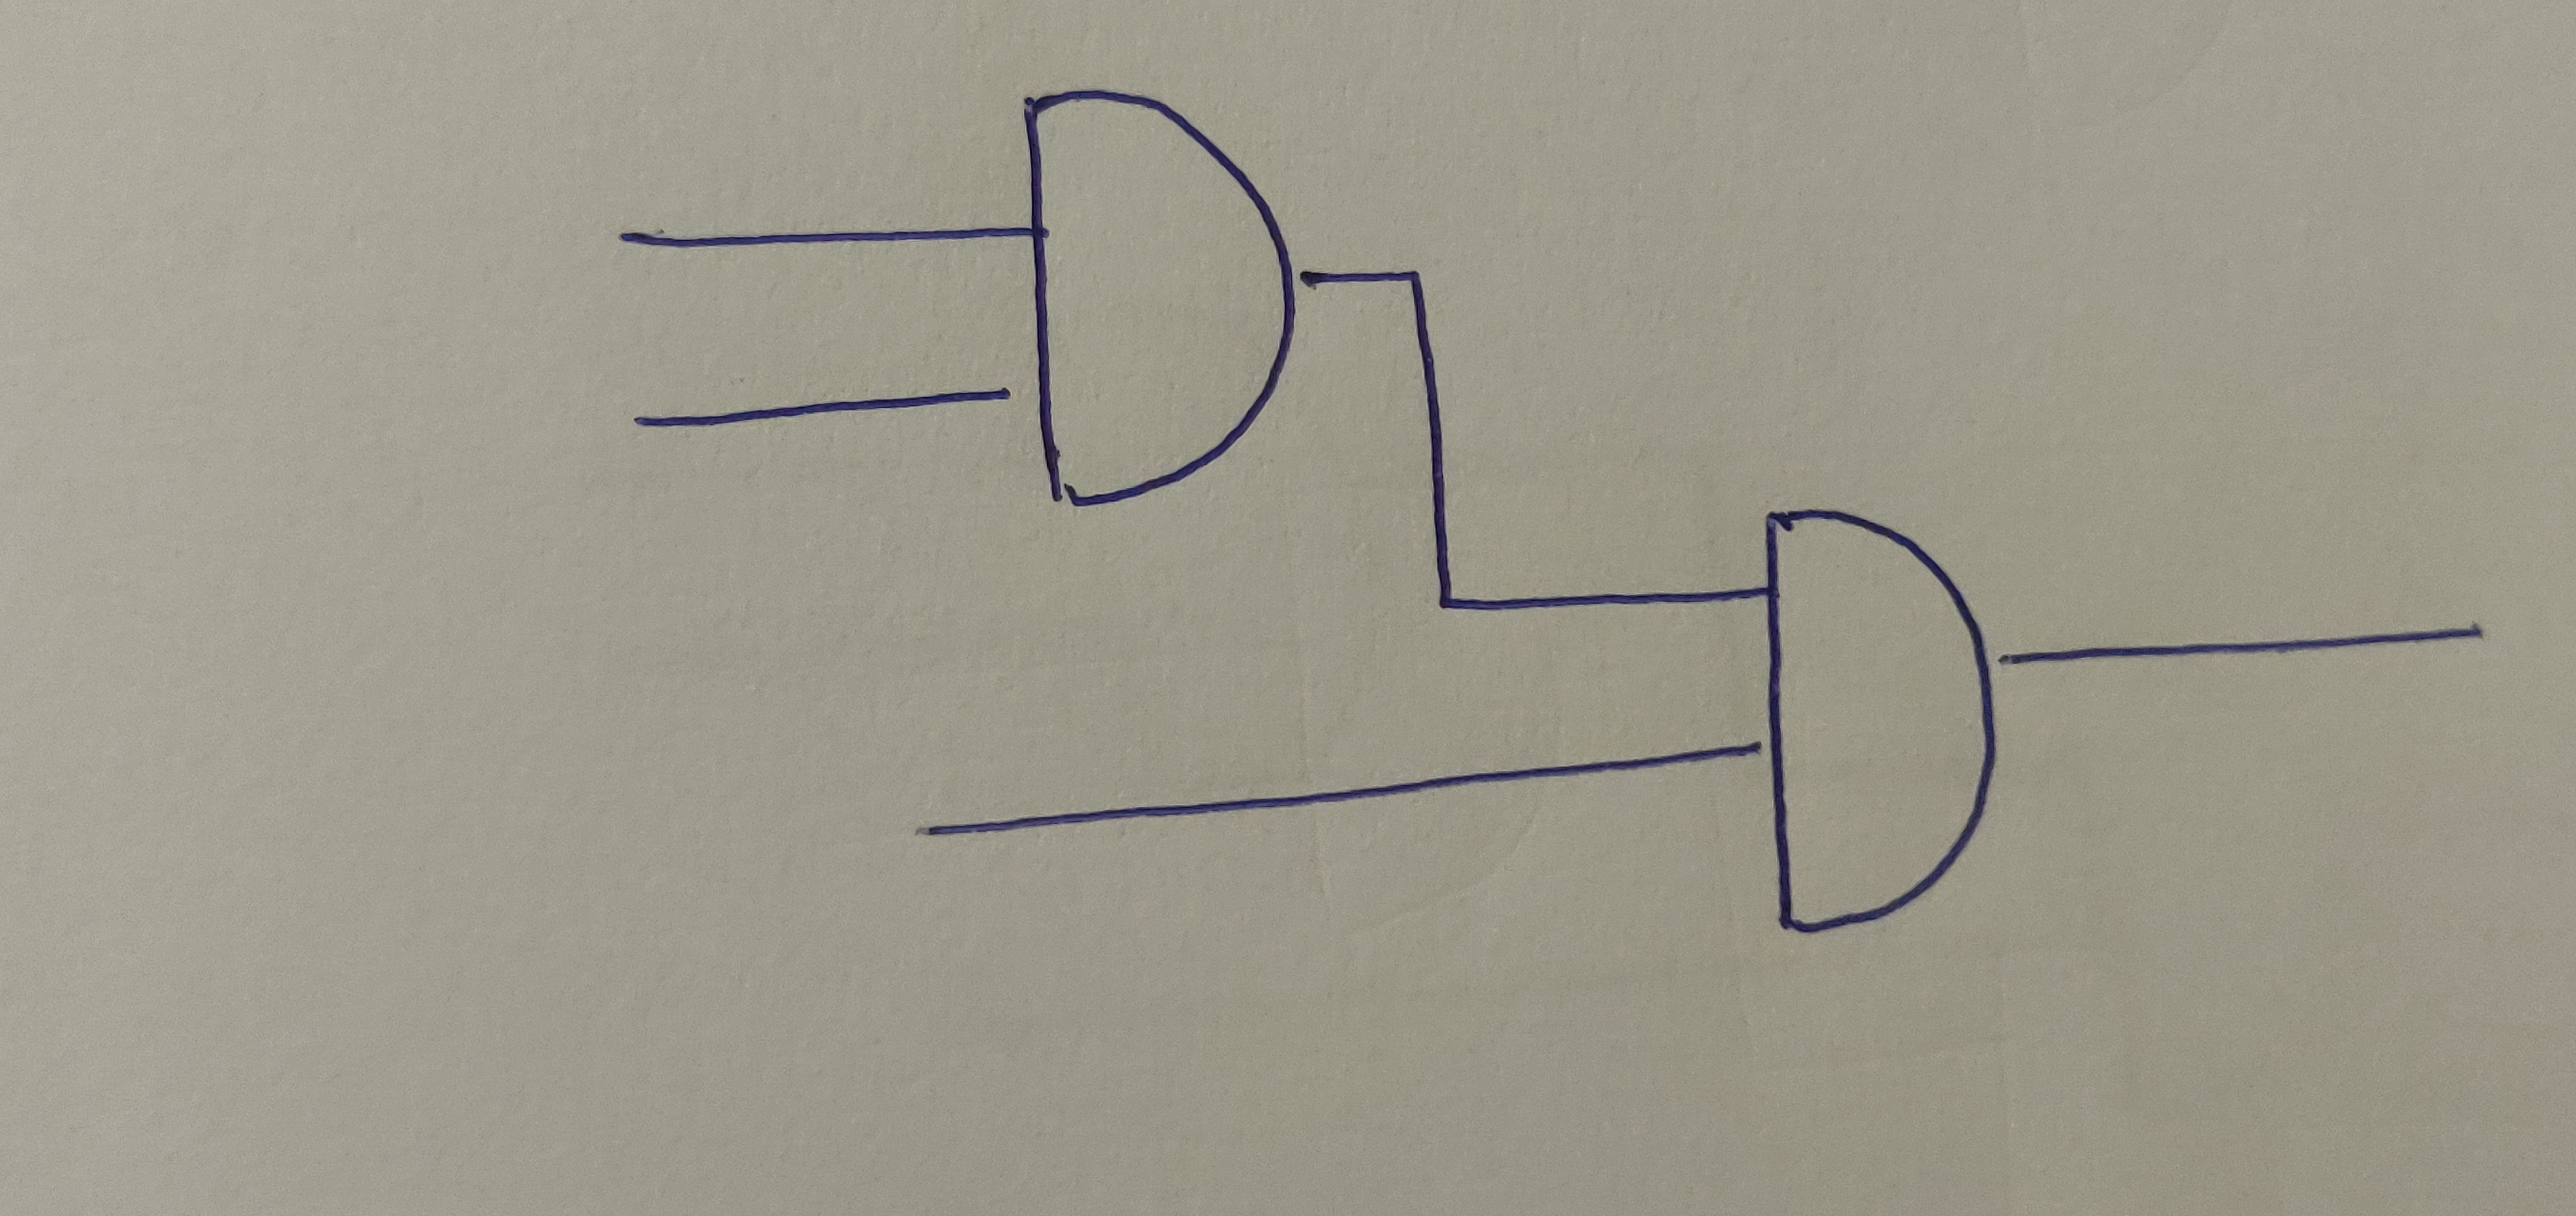and: (1015, 85, 1298, 513), (1759, 504, 1994, 932)
